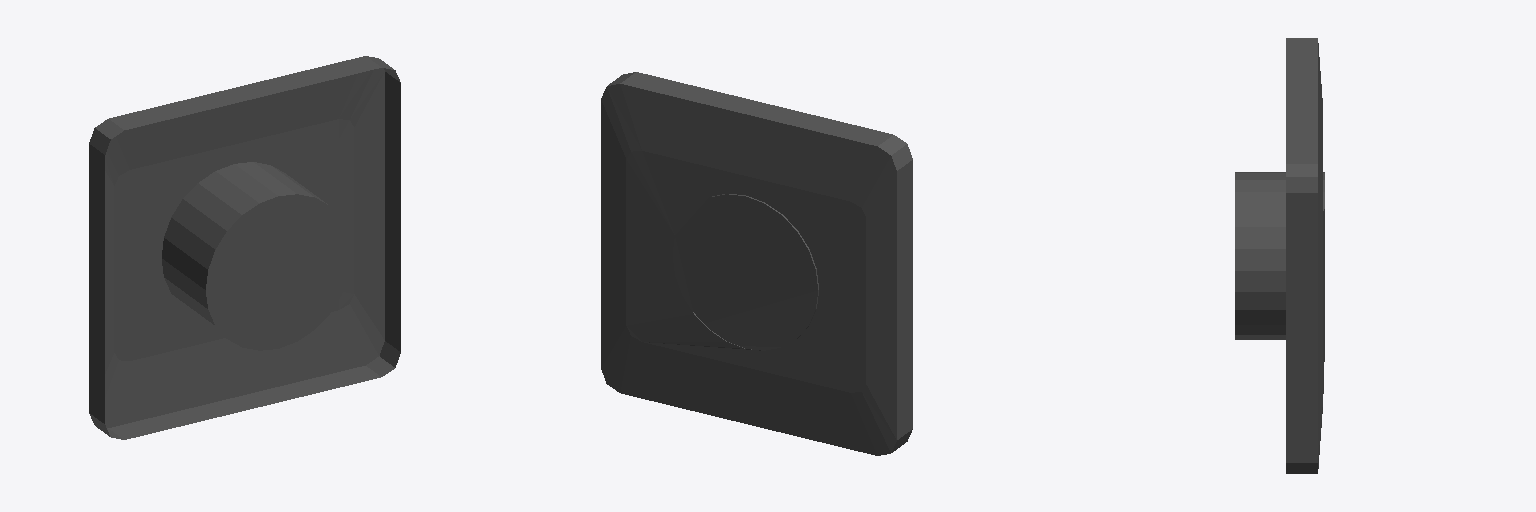
The model's file is PowerSocketEmpty.obj.
The picture shows the model from 3 angles: view 1: azimuth 30°, elevation 25°; view 2: azimuth 150°, elevation 25°; view 3: azimuth 270°, elevation 25°; orthographic projection.
Parts seen in each view (by area): view 1: Default; view 2: Default; view 3: Default.
Boxes of the visible parts, <box> form: Default: <box>89,56,400,439</box>; Default: <box>601,72,912,455</box>; Default: <box>1235,38,1324,473</box>.
Size of the model in its own units: 1 by 1 by 0.2647.